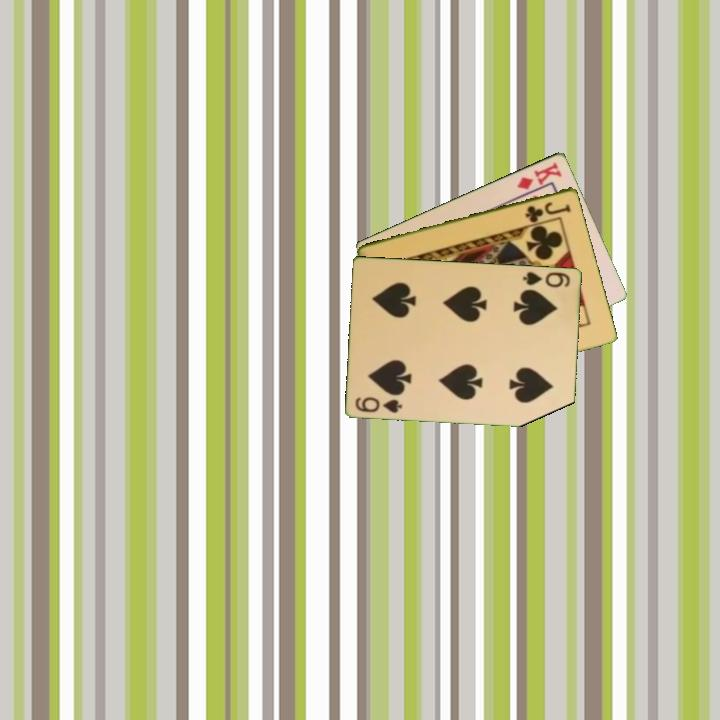6s: (352, 393, 405, 416), (520, 268, 573, 290)
Jc: (522, 198, 574, 224)
Kd: (513, 158, 565, 192)
